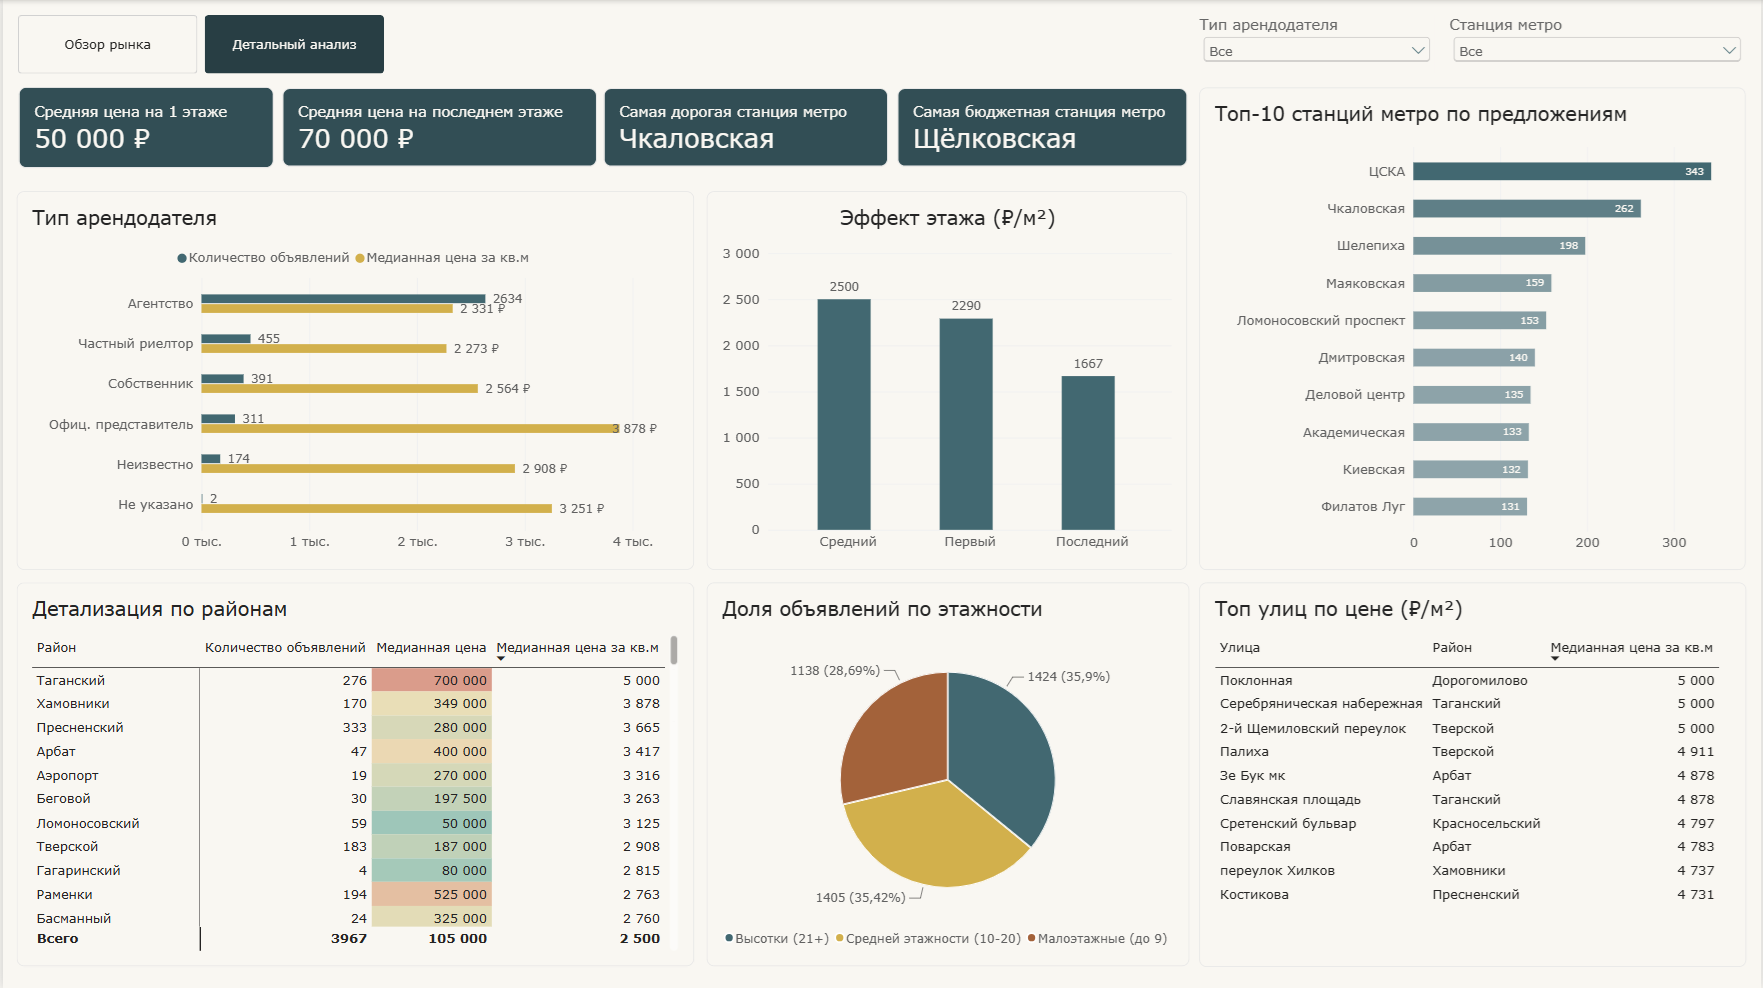

What the dashboard file says about the page in this screenshot:
{"tool":"powerbi","page":{"name":"Детальный анализ","canvas":[1920,1080],"ordinal":1},"visuals":[{"type":"columnChart","title":"Эффект этажа (₽/м²)","fields":{"Category":["rent_offers.Тип этажа"],"Y":["rent_offers.Медианная цена за кв.м"]},"box":[768.9,208.8,525,413.7],"z":0},{"type":"slicer","title":"Тип арендодателя","fields":{"Values":["rent_offers.Тип арендодателя (RU)"]},"box":[1306.6,16.3,257.1,63.5],"z":1000,"group":"g1"},{"type":"clusteredBarChart","title":"Тип арендодателя","fields":{"Category":["rent_offers.Тип арендодателя (RU)"],"Y":["rent_offers.Количество объявлений","rent_offers.Медианная цена за кв.м"]},"box":[15.6,208.8,739.7,413.7],"z":1000},{"type":"pivotTable","title":"Детализация по районам","fields":{"Rows":["rent_offers.district"],"Values":["rent_offers.Количество объявлений","rent_offers.Медианная цена","rent_offers.Медианная цена за кв.м"]},"box":[15.6,636.2,739.7,419.6],"z":2000},{"type":"pageNavigator","box":[16,16,400,64],"z":3000},{"type":"slicer","title":"Станция метро","fields":{"Values":["rent_offers.underground"]},"box":[1580,16.3,323.8,63.5],"z":3000,"group":"g1"},{"type":"barChart","title":"Топ-10 станций метро по предложениям","fields":{"Category":["rent_offers.underground"],"Y":["rent_offers.Количество объявлений"]},"box":[1306.4,96.1,597,527.6],"z":4000},{"type":"tableEx","title":"Топ улиц по цене (₽/м²)","fields":{"Values":["rent_offers.street","rent_offers.district","rent_offers.Медианная цена за кв.м"]},"box":[1306.6,636.3,597.6,419.9],"z":5000},{"type":"cardVisual","fields":{"Data":["rent_offers.Средняя цена на 1 этаже"]},"box":[16.3,94.6,280,90.1],"z":6000},{"type":"cardVisual","fields":{"Data":["rent_offers.Средняя цена на последнем этаже"]},"box":[304.4,96.1,345,87.2],"z":7000},{"type":"cardVisual","fields":{"Data":["rent_offers.Самая дорогая станция метро"]},"box":[656.2,96.1,312,87.2],"z":8000},{"type":"cardVisual","fields":{"Data":["rent_offers.Самая бюджетная станция метро"]},"box":[976.3,96,318.9,87.9],"z":9000},{"type":"group","id":"g1","title":"Группа 1","box":[1306.6,16.3,597.2,63.5],"z":10000},{"type":"pieChart","title":"Доля объявлений по этажности","fields":{"Category":["rent_offers.Категория дома"],"Y":["rent_offers.Количество объявлений"]},"box":[768.9,636.2,526.9,419.6],"z":11000}]}

Visuals, with their boxes in screenshot pixels (x1, y1, x2, y2), scaled from the page's 1920x1080 canvas onto the 1763x988 screenshot:
"Эффект этажа (₽/м²)" columnChart: region(706, 191, 1188, 569)
"Тип арендодателя" slicer: region(1200, 15, 1436, 73)
"Тип арендодателя" clusteredBarChart: region(14, 191, 694, 569)
"Детализация по районам" pivotTable: region(14, 582, 694, 966)
pageNavigator: region(15, 15, 382, 73)
"Станция метро" slicer: region(1451, 15, 1748, 73)
"Топ-10 станций метро по предложениям" barChart: region(1200, 88, 1748, 571)
"Топ улиц по цене (₽/м²)" tableEx: region(1200, 582, 1748, 966)
cardVisual - rent_offers.Средняя цена на 1 этаже: region(15, 87, 272, 169)
cardVisual - rent_offers.Средняя цена на последнем этаже: region(280, 88, 596, 168)
cardVisual - rent_offers.Самая дорогая станция метро: region(603, 88, 889, 168)
cardVisual - rent_offers.Самая бюджетная станция метро: region(896, 88, 1189, 168)
"Группа 1" group: region(1200, 15, 1748, 73)
"Доля объявлений по этажности" pieChart: region(706, 582, 1190, 966)
